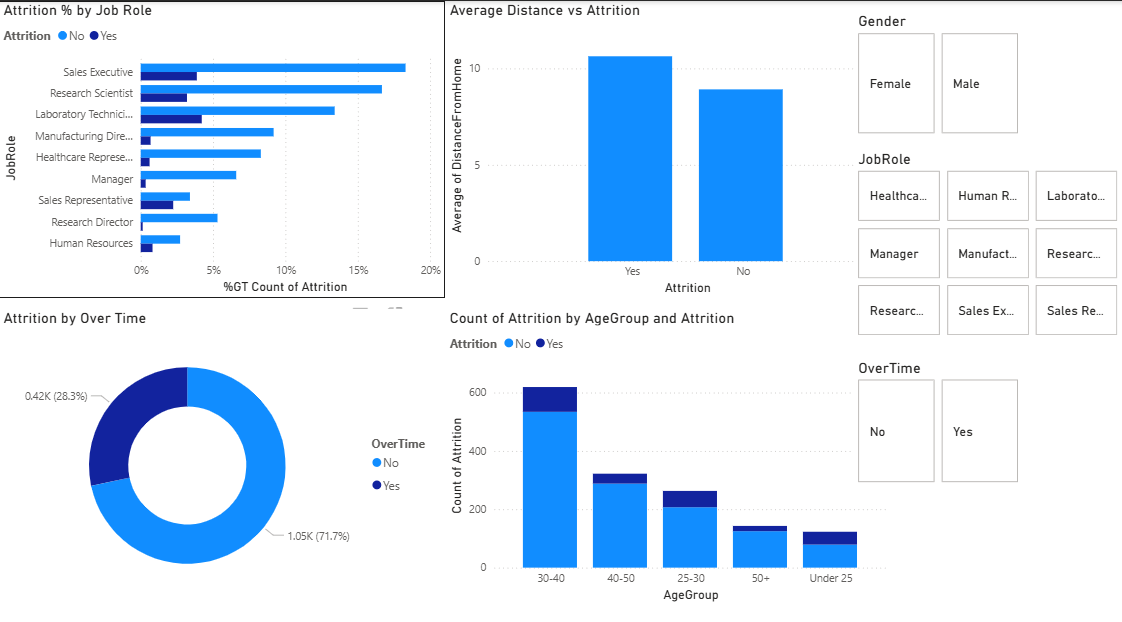

What the dashboard file says about the page in this screenshot:
{"tool":"powerbi","page":{"name":"Page 1","canvas":[1280,720],"ordinal":0},"visuals":[{"type":"clusteredBarChart","title":"Attrition % by Job Role","fields":{"Category":["HR_Attrition_Cleaned.JobRole"],"Series":["HR_Attrition_Cleaned.Attrition"],"Y":["CountNonNull(HR_Attrition_Cleaned.Attrition)"]},"box":[0,0,508.9,339.2],"z":0},{"type":"donutChart","title":"Attrition by Over Time","fields":{"Category":["HR_Attrition_Cleaned.OverTime"],"Y":["CountNonNull(HR_Attrition_Cleaned.Attrition)"]},"box":[0,350.6,508.9,339.2],"z":1},{"type":"clusteredColumnChart","title":"Average Distance vs Attrition","fields":{"Y":["Avg(HR_Attrition_Cleaned.DistanceFromHome)"],"Category":["HR_Attrition_Cleaned.Attrition"]},"box":[508.9,0,508.9,340.7],"z":2},{"type":"columnChart","fields":{"Category":["HR_Attrition_Cleaned.AgeGroup"],"Series":["HR_Attrition_Cleaned.Attrition"],"Y":["CountNonNull(HR_Attrition_Cleaned.Attrition)"]},"box":[508.9,350.6,508.9,339.2],"z":3},{"type":"advancedSlicerVisual","fields":{"Values":["HR_Attrition_Cleaned.Gender"]},"box":[975,12.8,287.9,144],"z":4},{"type":"advancedSlicerVisual","fields":{"Values":["HR_Attrition_Cleaned.JobRole"]},"box":[975,169.6,305,216.7],"z":5},{"type":"advancedSlicerVisual","fields":{"Values":["HR_Attrition_Cleaned.OverTime"]},"box":[975,407.7,287.9,146.8],"z":6}]}

Visuals, with their boxes in screenshot pixels (x1, y1, x2, y2), scaled from the page's 1280x720 canvas onto the 1122x622 screenshot:
"Attrition % by Job Role" clusteredBarChart: 0, 0, 446, 293
"Attrition by Over Time" donutChart: 0, 303, 446, 596
"Average Distance vs Attrition" clusteredColumnChart: 446, 0, 892, 294
columnChart - HR_Attrition_Cleaned.AgeGroup x HR_Attrition_Cleaned.Attrition: 446, 303, 892, 596
advancedSlicerVisual - HR_Attrition_Cleaned.Gender: 855, 11, 1107, 135
advancedSlicerVisual - HR_Attrition_Cleaned.JobRole: 855, 147, 1121, 334
advancedSlicerVisual - HR_Attrition_Cleaned.OverTime: 855, 352, 1107, 479
